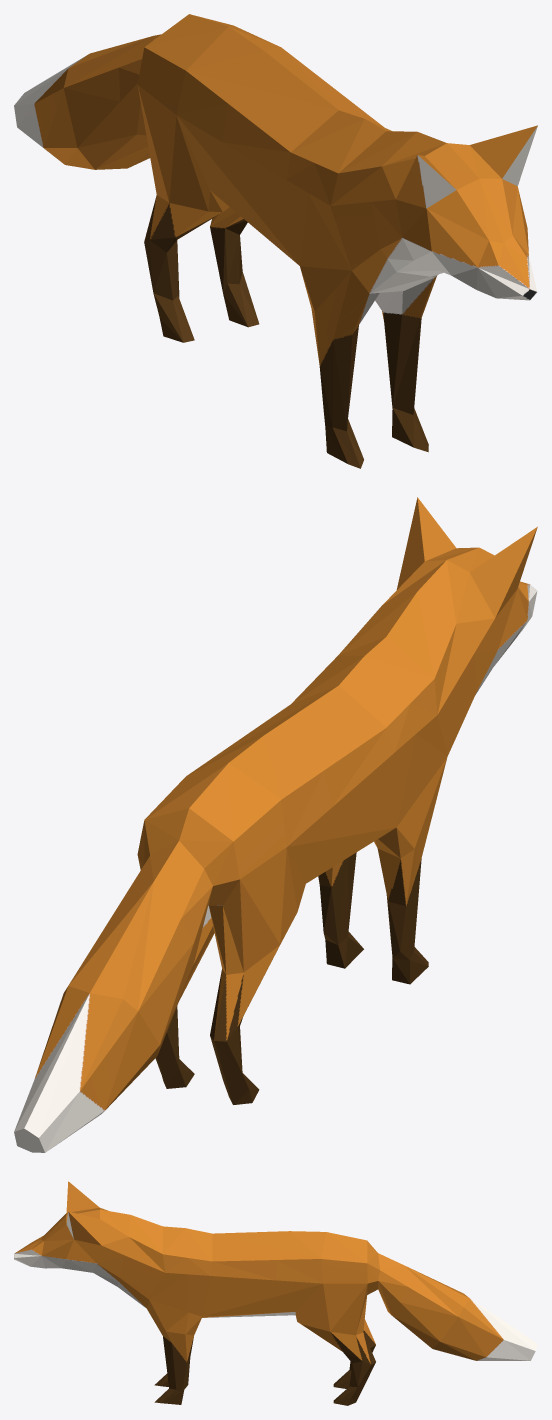
3 views of the same model, one above another, from view 1: azimuth 30°, elevation 25°; view 2: azimuth 150°, elevation 25°; view 3: azimuth 270°, elevation 25° (orthographic). The views are drawn at different scales.
Visible parts, largest first — view 1: fox1; view 2: fox1; view 3: fox1.
Boxes of the visible parts, <box> form: fox1: <box>14,14,537,468</box>; fox1: <box>14,497,537,1152</box>; fox1: <box>14,1181,537,1405</box>.
Size of the model in its own units: 0.5227 by 1.59 by 3.8.
1 material, 1 textured.
